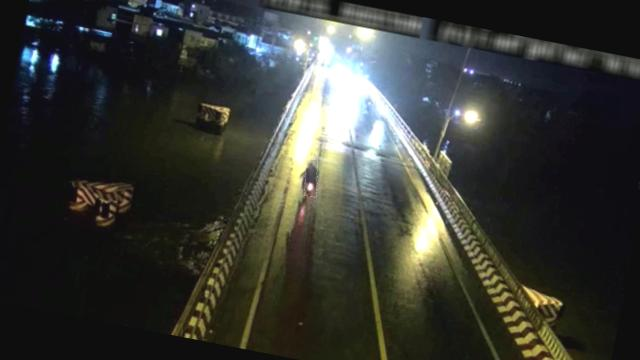Bike: (300, 159, 322, 198), (362, 91, 376, 115)
